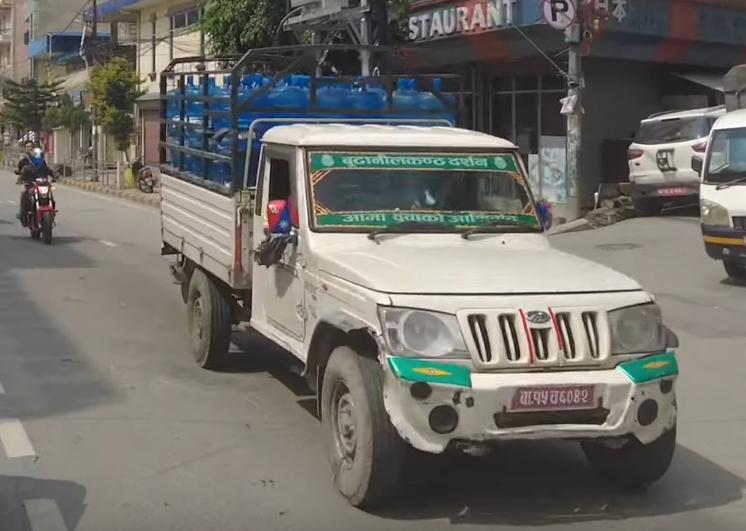bike: (9, 130, 62, 252)
car: (604, 90, 744, 225)
scooter: (124, 152, 161, 199)
transport_vehicle: (149, 48, 686, 517)
